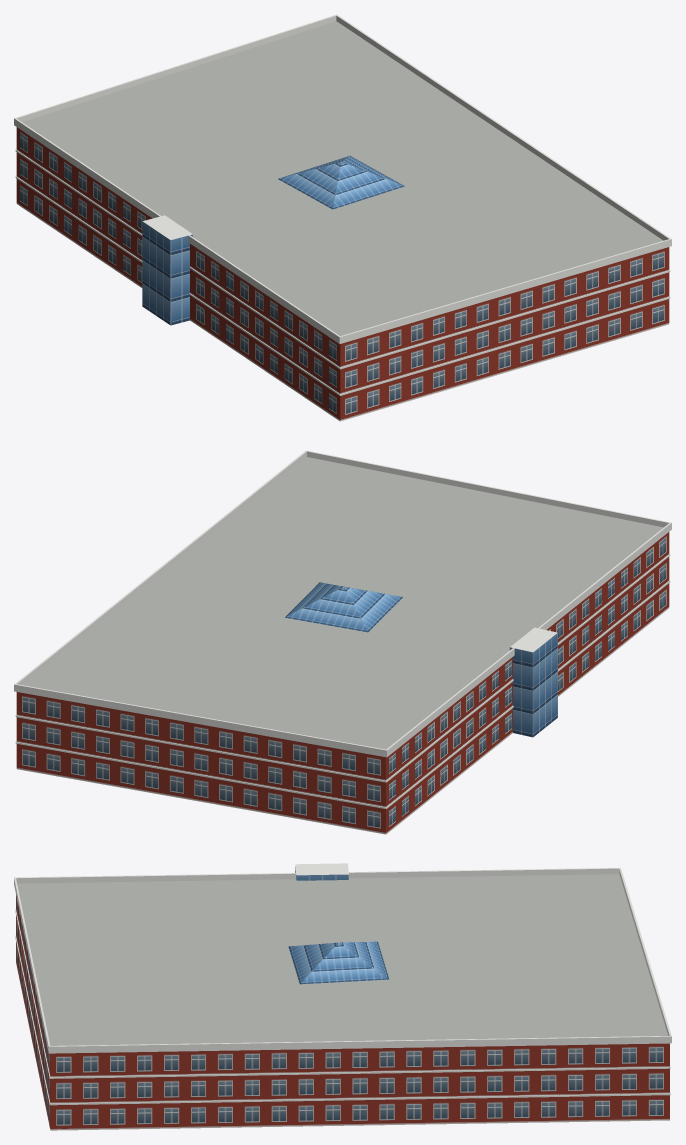
File: zhongyuan_meishicheng.glb
The picture shows the model from 3 angles, top to bottom: view 1: azimuth 30°, elevation 25°; view 2: azimuth 150°, elevation 25°; view 3: azimuth 270°, elevation 25°; orthographic projection.
Parts seen in each view (by area): view 1: 中苑美食城; view 2: 中苑美食城; view 3: 中苑美食城.
Boxes of the visible parts, <box> form: 中苑美食城: <box>14,14,671,421</box>; 中苑美食城: <box>14,450,671,834</box>; 中苑美食城: <box>14,863,671,1130</box>.
Bounding box in the file's own units: 57.61 × 14.6 × 87.35.
4 materials, 2 textured.
